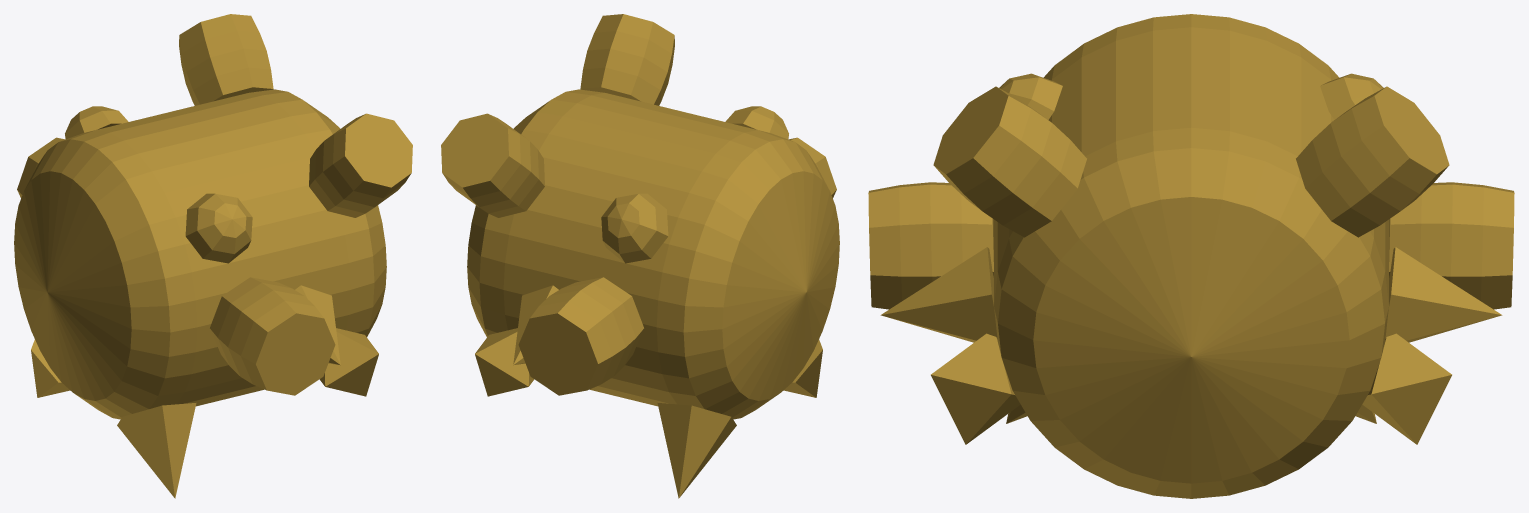
The model's file is exp2_ovoid_cylinder_sym_04.glb.
The picture shows the model from 3 angles, left to right: view 1: azimuth 30°, elevation 25°; view 2: azimuth 150°, elevation 25°; view 3: azimuth 270°, elevation 25°; orthographic projection. The views are drawn at different scales.
Parts seen in each view (by area): view 1: exp2_ovoid_cylinder_sym_04; view 2: exp2_ovoid_cylinder_sym_04; view 3: exp2_ovoid_cylinder_sym_04.
Part boxes in pixels (box(x1,y1,x2,y2)): exp2_ovoid_cylinder_sym_04: box(14, 14, 412, 498); exp2_ovoid_cylinder_sym_04: box(441, 14, 839, 498); exp2_ovoid_cylinder_sym_04: box(868, 14, 1514, 498).
Bounding box in the file's own units: 1.57 × 1.65 × 2.13.
